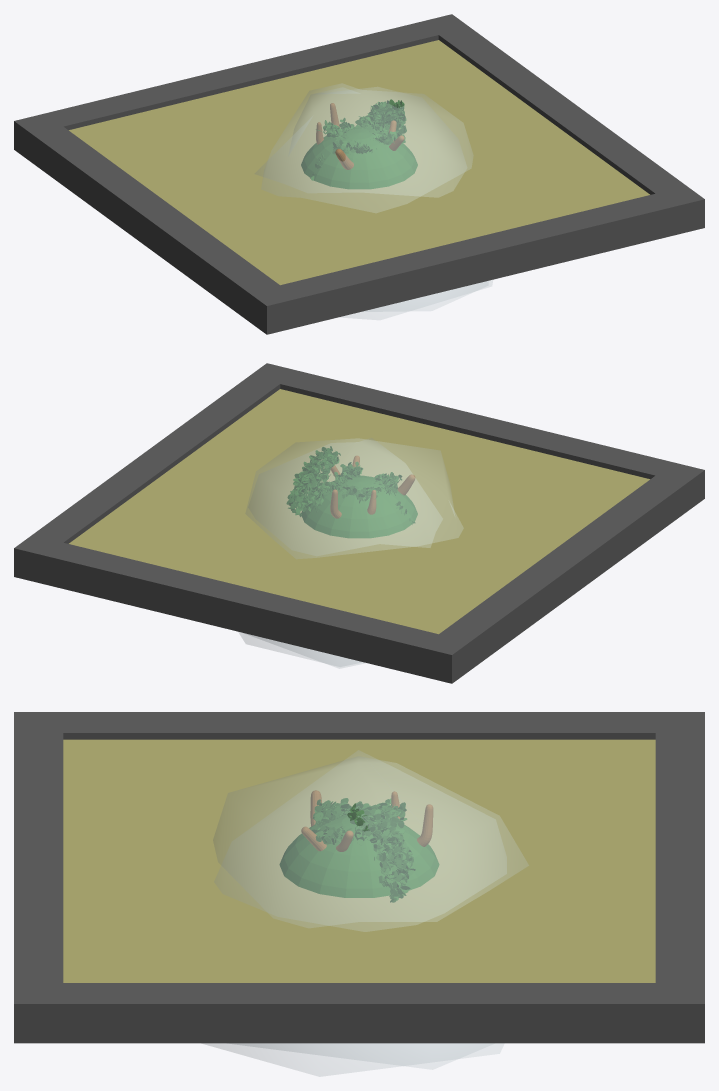
Rendered from sandy-r020-e002.glb.
The picture shows the model from 3 angles, top to bottom: view 1: azimuth 30°, elevation 25°; view 2: azimuth 150°, elevation 25°; view 3: azimuth 270°, elevation 25°; orthographic projection. The views are drawn at different scales.
Parts seen in each view (by area): view 1: pasir_15, kaca_44, daun pohon_51, daun_22, batang pohon_43; view 2: pasir_15, kaca_44, daun pohon_51, daun_22, batang pohon_43; view 3: pasir_15, kaca_44, daun pohon_51, daun_22, batang pohon_43.
Part boxes in pixels (<box>): pasir_15: <box>14,14,704,334</box>; kaca_44: <box>255,83,492,319</box>; daun pohon_51: <box>301,127,417,189</box>; daun_22: <box>310,99,406,180</box>; batang pohon_43: <box>316,103,404,169</box>; pasir_15: <box>14,363,704,683</box>; kaca_44: <box>239,438,463,668</box>; daun pohon_51: <box>301,475,417,538</box>; daun_22: <box>286,446,415,524</box>; batang pohon_43: <box>330,455,415,518</box>; pasir_15: <box>14,712,704,1043</box>; kaca_44: <box>203,750,528,1076</box>; daun pohon_51: <box>279,813,439,897</box>; daun_22: <box>312,798,416,902</box>; batang pohon_43: <box>301,790,433,851</box>.
Size of the model in its own units: 847775 by 313163 by 847775.
